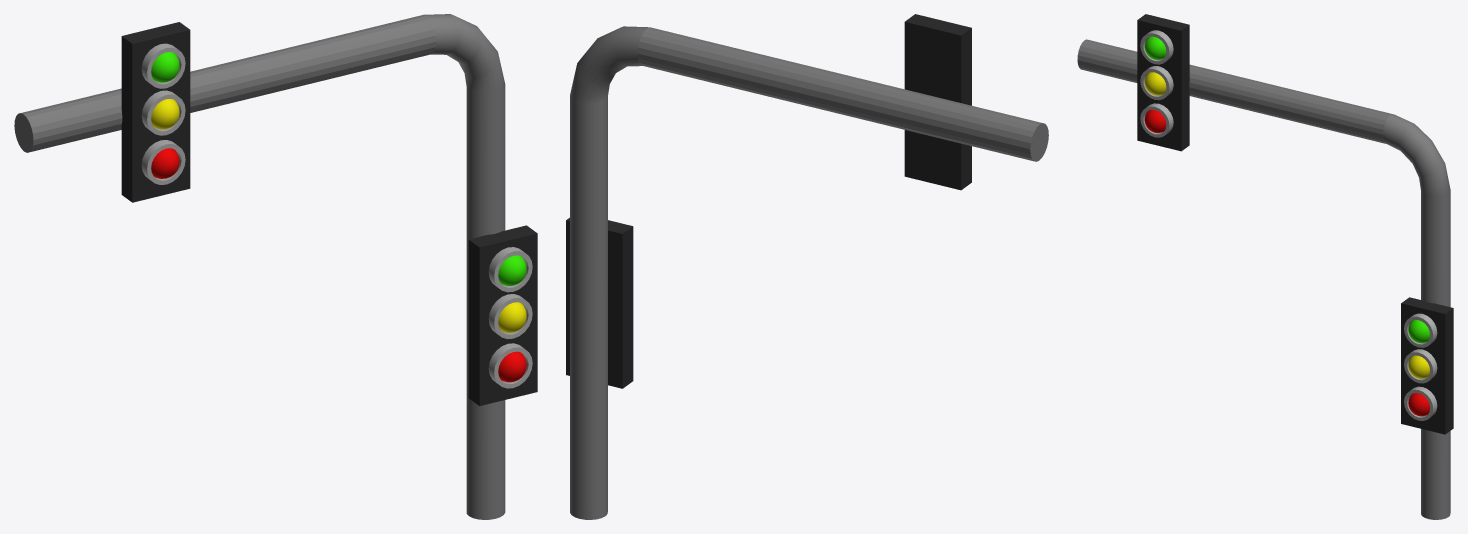
Rendered from RightsideLight.fbx.
The picture shows the model from 3 angles, left to right: view 1: azimuth 30°, elevation 25°; view 2: azimuth 150°, elevation 25°; view 3: azimuth 330°, elevation 25°; orthographic projection. The views are drawn at different scales.
Parts seen in each view (by area): view 1: pCylinder3, pCube25, pCube24, pPipe5, pPipe8, pPipe6, pPipe7, pPipe9, pPipe4, pSphere10, pSphere8, pSphere6 (+3 smaller); view 2: pCylinder3, pCube24, pCube25; view 3: pCylinder3, pCube24, pCube25, pPipe7, pPipe6, pPipe5, pPipe4, pPipe8, pPipe9.
Boxes of the visible parts, left/top/right/bottom form: pCylinder3: left=14, top=14, right=505, bottom=519; pCube25: left=468, top=225, right=537, bottom=405; pCube24: left=121, top=22, right=190, bottom=202; pPipe5: left=141, top=90, right=185, bottom=135; pPipe8: left=488, top=247, right=532, bottom=292; pPipe6: left=141, top=43, right=185, bottom=88; pPipe7: left=488, top=294, right=532, bottom=339; pPipe9: left=488, top=343, right=532, bottom=388; pPipe4: left=141, top=140, right=185, bottom=184; pSphere10: left=498, top=351, right=526, bottom=382; pSphere8: left=498, top=255, right=526, bottom=285; pSphere6: left=151, top=99, right=179, bottom=129; pCylinder3: left=570, top=26, right=1048, bottom=519; pCube24: left=904, top=14, right=971, bottom=190; pCube25: left=566, top=217, right=633, bottom=388; pCylinder3: left=1077, top=39, right=1450, bottom=519; pCube24: left=1137, top=14, right=1189, bottom=151; pCube25: left=1401, top=297, right=1453, bottom=434; pPipe7: left=1404, top=349, right=1437, bottom=383; pPipe6: left=1140, top=30, right=1173, bottom=64; pPipe5: left=1140, top=66, right=1173, bottom=100; pPipe4: left=1140, top=103, right=1173, bottom=137; pPipe8: left=1404, top=313, right=1437, bottom=347; pPipe9: left=1404, top=386, right=1437, bottom=420.
Bounding box in the file's own units: 13.59 × 15.05 × 1.87.
